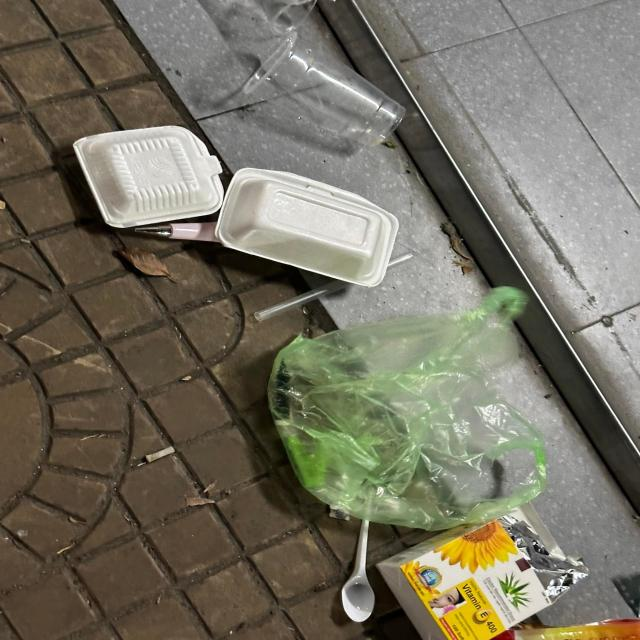bag: (269, 288, 547, 531)
cardboard box: (376, 501, 590, 640)
drinking straw: (254, 252, 416, 322)
foam box: (217, 167, 398, 289), (75, 125, 225, 229)
plastic glass: (242, 34, 406, 150)
plastic utensil: (344, 489, 376, 622)
